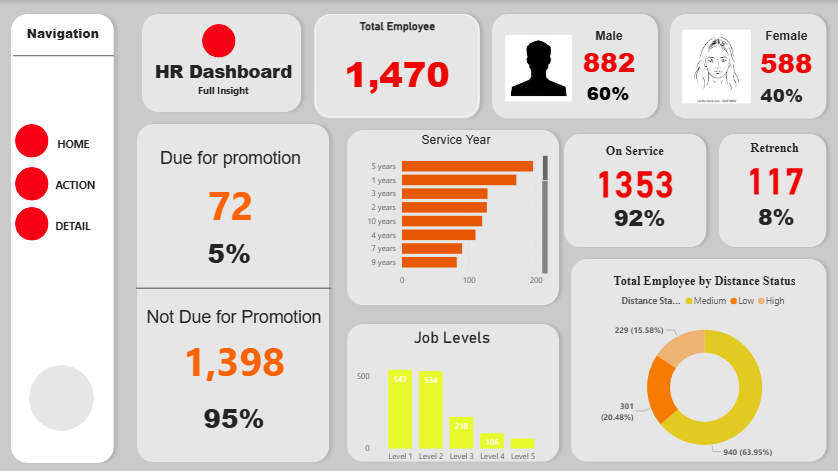

This screenshot's page, from the dashboard's own definition file:
{"tool":"powerbi","page":{"name":"HOME","canvas":[1280,720],"ordinal":0},"visuals":[{"type":"shape","box":[11.4,11.4,174.3,698.6],"z":0},{"type":"shape","box":[202.9,178.6,310,531.4],"z":1000},{"type":"shape","box":[521,482.9,340,227.1],"z":2000},{"type":"shape","box":[512.6,189.6,339.7,285.1],"z":3000},{"type":"shape","box":[861.4,384.3,405.7,325.7],"z":4000},{"type":"shape","box":[1085.7,194.3,181.4,190],"z":5000},{"type":"shape","box":[851.4,194.3,234.3,190],"z":6000},{"type":"clusteredColumnChart","title":"Job Levels","fields":{"Category":["HR Analytics Data.JobLevel"],"Y":["Table.Total Employee"]},"box":[540,497.1,300,212.9],"z":7000},{"type":"shape","box":[48.6,554.3,98.6,100],"z":8000},{"type":"shape","box":[27.1,188.7,51.4,51.4],"z":9000},{"type":"shape","box":[27.1,253,51.4,51.4],"z":10000},{"type":"shape","box":[27.1,314.4,51.4,51.4],"z":11000},{"type":"textbox","box":[85.7,201.4,77.1,41.4],"z":12000},{"type":"textbox","box":[82.9,264.3,82.9,37.1],"z":13000},{"type":"textbox","box":[82.9,325.7,82.9,40],"z":14000},{"type":"shape","box":[24.3,77.1,152.9,14.3],"z":15000},{"type":"shape","box":[211.4,431.4,297.1,12.9],"z":16000},{"type":"card","title":"Due for promotion","fields":{"Values":["Table.Due for Promotion"]},"box":[236.7,225,235,135],"z":17000},{"type":"card","title":"Not Due for Promotion","fields":{"Values":["Table.Not Due for Promotion"]},"box":[216.7,465,285,128.3],"z":18000},{"type":"card","fields":{"Values":["Table.Percentage Due for Promotion"]},"box":[303.3,351.7,98.3,61.7],"z":19000},{"type":"textbox","box":[35,31.7,130,45],"z":20000},{"type":"card","fields":{"Values":["Table.Percentage Not Due for Promotion"]},"box":[303.3,591.7,113.3,83.3],"z":21000},{"type":"donutChart","fields":{"Category":["HR Analytics Data.Distance Status"],"Y":["Table.Total Employee"]},"box":[884,416,378,294],"z":22000},{"type":"card","title":"Retrench","fields":{"Values":["Table.Retrench 1"]},"box":[1096,214,166,88],"z":23000},{"type":"card","title":"On Service","fields":{"Values":["Table.On Service"]},"box":[884,218,166,88],"z":24000},{"type":"card","fields":{"Values":["Table.%Retrench"]},"box":[1126.7,296.7,110,61.7],"z":25000},{"type":"card","fields":{"Values":["Table.%On Service"]},"box":[914,296,120,70],"z":26000},{"type":"clusteredBarChart","title":" Service Year","fields":{"Y":["Table.Total Employee"],"Category":["HR Analytics Data.Service year"]},"box":[552,202,288,242],"z":27000},{"type":"shape","box":[211.4,11.4,260,167.1],"z":28000},{"type":"shape","box":[311.4,35.7,51.4,51.4],"z":29000},{"type":"textbox","box":[203.3,85,280,78.3],"z":30000},{"type":"shape","box":[471.4,11.4,270,177.1],"z":31000},{"type":"shape","box":[741.4,11.4,270,177.1],"z":32000},{"type":"shape","box":[1011.4,11.4,255.7,177.1],"z":33000},{"type":"card","title":"Total Employee","fields":{"Values":["Table.Total Employee"]},"box":[482.9,21.4,248.6,155.7],"z":34000},{"type":"card","title":"Male","fields":{"Values":["Table.Male Employee"]},"box":[876.7,43.3,103.3,76.7],"z":35000},{"type":"card","fields":{"Values":["Table.Male Percentage"]},"box":[875.7,90,104.3,104.3],"z":36000},{"type":"card","title":"Female","fields":{"Values":["Table.Female Employee"]},"box":[1140,43.3,113.3,81.7],"z":37000},{"type":"card","fields":{"Values":["Table.Female Percentage"]},"box":[1142.9,108.6,94.3,70],"z":38000},{"type":"image","box":[1034.3,38.6,114.3,125.7],"z":39000},{"type":"image","box":[765.7,38.6,111.4,131.4],"z":40000}]}

Visuals, with their boxes in screenshot pixels (x1, y1, x2, y2), scaled from the page's 1280x720 canvas onto the 838x471 screenshot:
shape: <region>7, 7, 122, 464</region>
shape: <region>133, 117, 336, 464</region>
shape: <region>341, 316, 564, 464</region>
shape: <region>336, 124, 558, 311</region>
shape: <region>564, 251, 830, 464</region>
shape: <region>711, 127, 830, 251</region>
shape: <region>557, 127, 711, 251</region>
"Job Levels" clusteredColumnChart: <region>354, 325, 550, 464</region>
shape: <region>32, 363, 96, 428</region>
shape: <region>18, 123, 51, 157</region>
shape: <region>18, 166, 51, 199</region>
shape: <region>18, 206, 51, 239</region>
textbox: <region>56, 132, 107, 159</region>
textbox: <region>54, 173, 109, 197</region>
textbox: <region>54, 213, 109, 239</region>
shape: <region>16, 50, 116, 60</region>
shape: <region>138, 282, 333, 291</region>
"Due for promotion" card: <region>155, 147, 309, 236</region>
"Not Due for Promotion" card: <region>142, 304, 328, 388</region>
card - Table.Percentage Due for Promotion: <region>199, 230, 263, 270</region>
textbox: <region>23, 21, 108, 50</region>
card - Table.Percentage Not Due for Promotion: <region>199, 387, 273, 442</region>
donutChart - HR Analytics Data.Distance Status x Table.Total Employee: <region>579, 272, 826, 464</region>
"Retrench" card: <region>718, 140, 826, 198</region>
"On Service" card: <region>579, 143, 687, 200</region>
card - Table.%Retrench: <region>738, 194, 810, 234</region>
card - Table.%On Service: <region>598, 194, 677, 239</region>
" Service Year" clusteredBarChart: <region>361, 132, 550, 290</region>
shape: <region>138, 7, 309, 117</region>
shape: <region>204, 23, 238, 57</region>
textbox: <region>133, 56, 316, 107</region>
shape: <region>309, 7, 485, 123</region>
shape: <region>485, 7, 662, 123</region>
shape: <region>662, 7, 830, 123</region>
"Total Employee" card: <region>316, 14, 479, 116</region>
"Male" card: <region>574, 28, 642, 78</region>
card - Table.Male Percentage: <region>573, 59, 642, 127</region>
"Female" card: <region>746, 28, 821, 82</region>
card - Table.Female Percentage: <region>748, 71, 810, 117</region>
image: <region>677, 25, 752, 107</region>
image: <region>501, 25, 574, 111</region>
